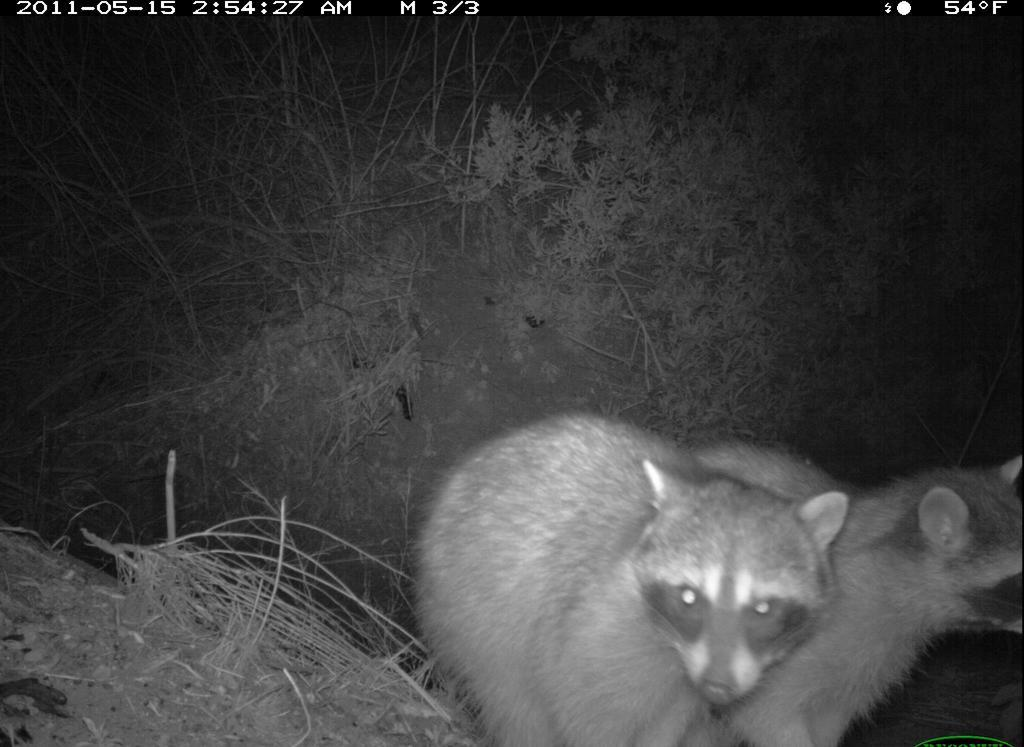raccoon: (420, 425, 850, 744), (697, 437, 1023, 699)
